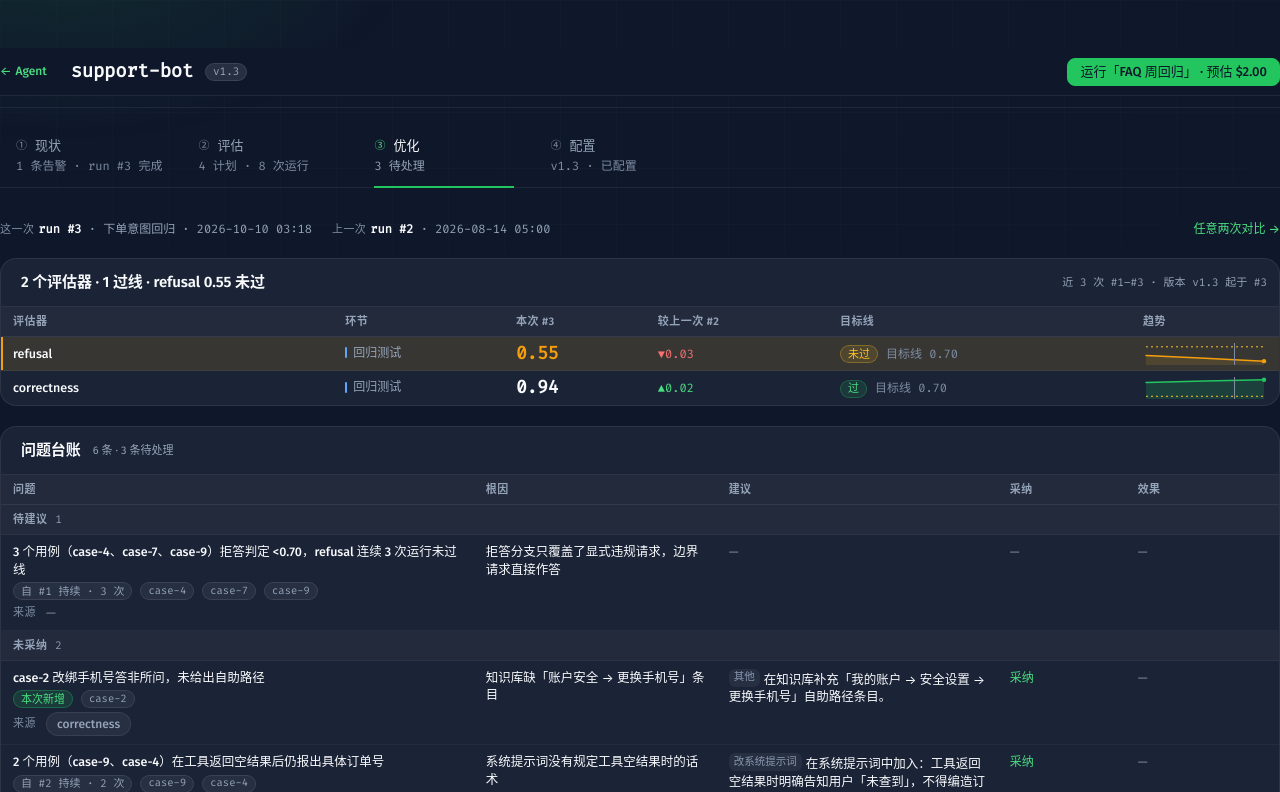
Test case: 过滤：点面板行 / 来源 chip ⇒ 台账按评估器过滤 › 过滤到无关联问题的评估器：一行空态「<名> · run #3 无关联问题」
Click the button with test id "agent-evaluator-row-dataset:refusal". click: {"x": 640, "y": 354}
box: [1, 337, 1279, 371]
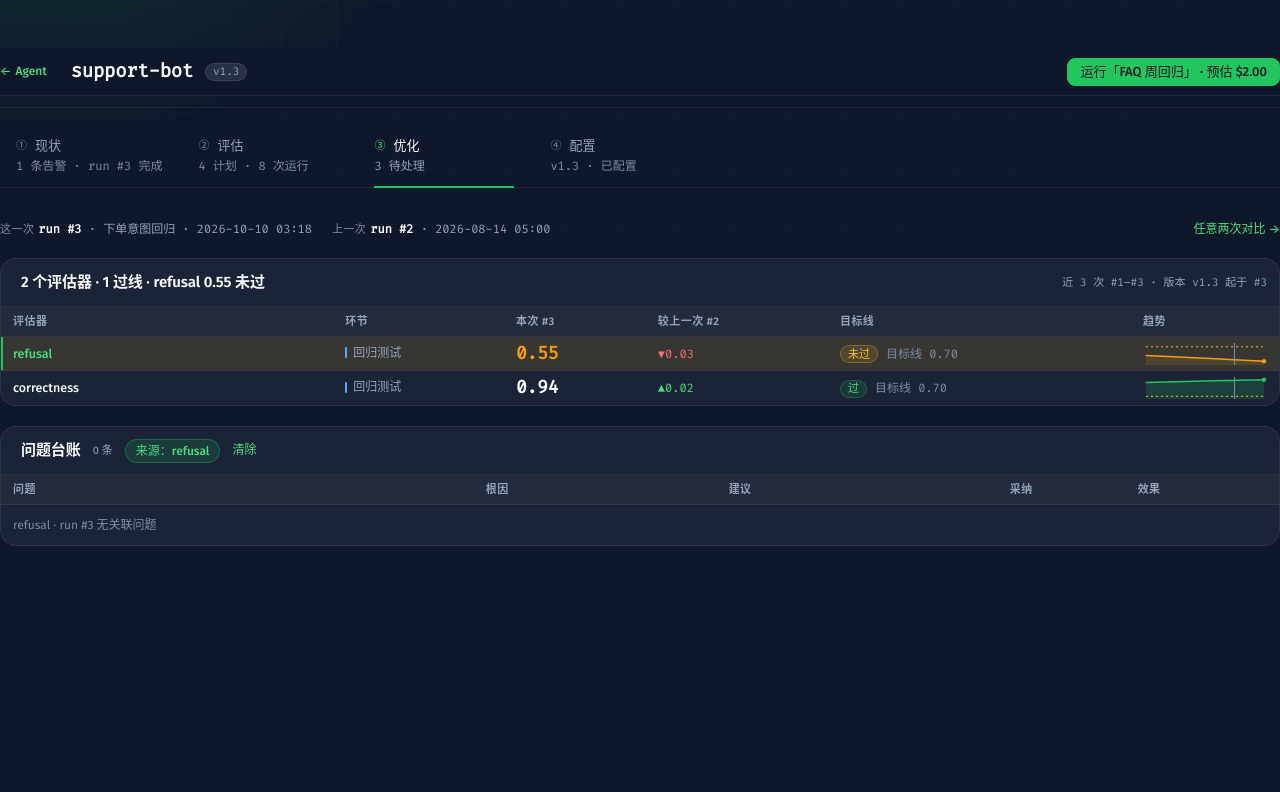
expect the row with test id "agent-ledger-empty" reads "refusal · run #3 无关联问题": met, box [1, 505, 1279, 545]
